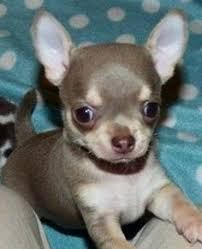chihuahua: (11, 3, 197, 243)
